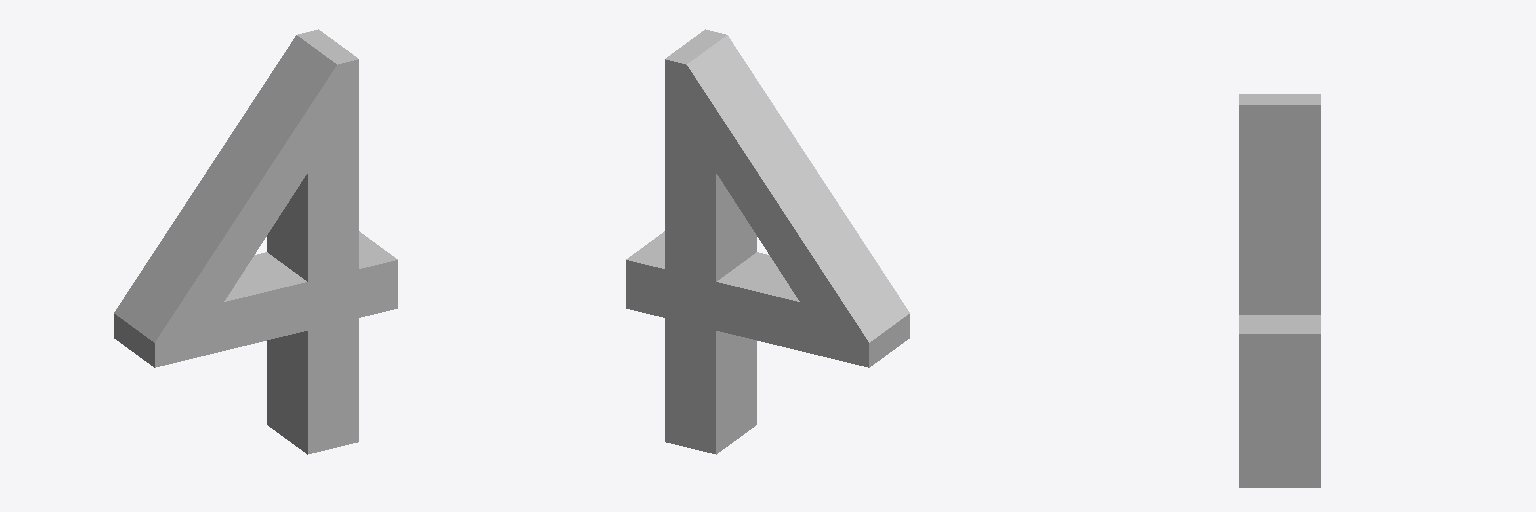
3 views of the same model, side by side, from view 1: azimuth 30°, elevation 25°; view 2: azimuth 150°, elevation 25°; view 3: azimuth 270°, elevation 25° (orthographic).
Parts seen in each view (by area): view 1: テキスト.004; view 2: テキスト.004; view 3: テキスト.004.
Part boxes in pixels (x1,y1,x2,y2): テキスト.004: (114,29,397,454); テキスト.004: (626,29,909,454); テキスト.004: (1239,94,1320,487).
Size of the model in its own units: 1.38 by 2.07 by 0.4.